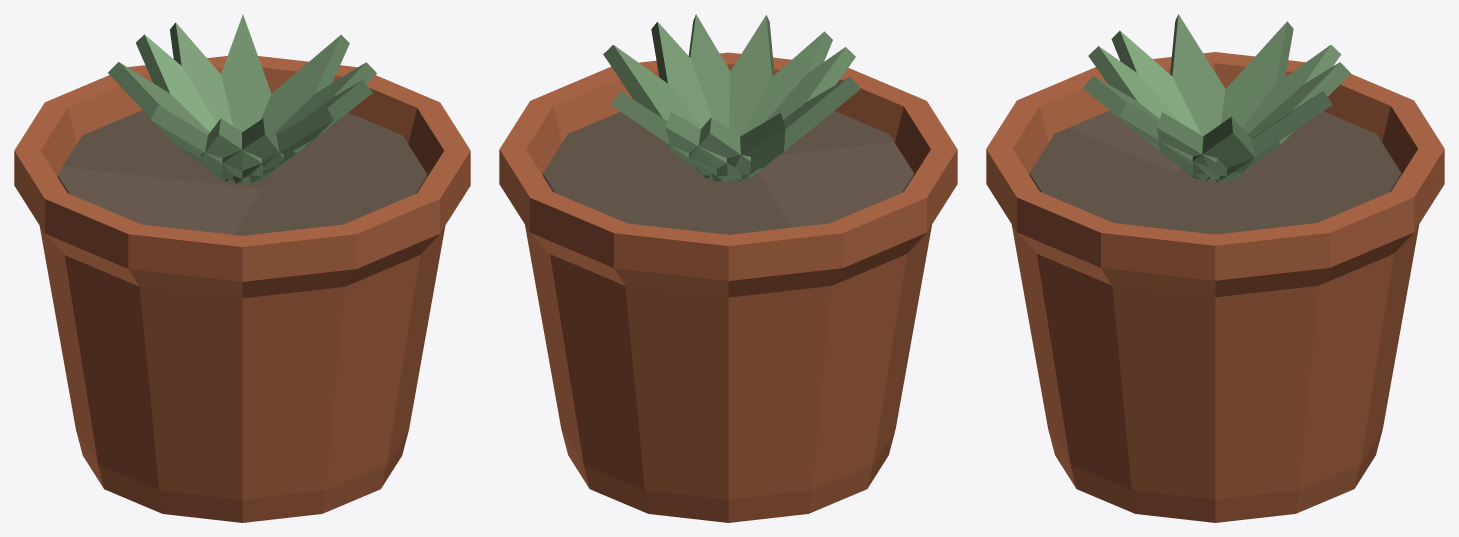
File: new-limifolia.glb
3 views of the same model, side by side, from view 1: azimuth 30°, elevation 25°; view 2: azimuth 150°, elevation 25°; view 3: azimuth 270°, elevation 25° (orthographic).
Parts seen in each view (by area): view 1: new-limifolia/review-terra-vessel, new-limifolia/review-rooted-soil, new-limifolia/leaf-007, new-limifolia/leaf-004, new-limifolia/leaf-010, new-limifolia/leaf-002, new-limifolia/leaf-005, new-limifolia/leaf-011, new-limifolia/leaf-008, new-limifolia/leaf-003, new-limifolia/leaf-006, new-limifolia/leaf-009 (+1 smaller); view 2: new-limifolia/review-terra-vessel, new-limifolia/review-rooted-soil, new-limifolia/leaf-006, new-limifolia/leaf-004, new-limifolia/leaf-009, new-limifolia/leaf-001, new-limifolia/leaf-011, new-limifolia/leaf-008, new-limifolia/leaf-003, new-limifolia/leaf-005, new-limifolia/leaf-010, new-limifolia/leaf-002 (+1 smaller); view 3: new-limifolia/review-terra-vessel, new-limifolia/review-rooted-soil, new-limifolia/leaf-008, new-limifolia/leaf-005, new-limifolia/leaf-003, new-limifolia/leaf-004, new-limifolia/leaf-011, new-limifolia/leaf-010, new-limifolia/leaf-002, new-limifolia/leaf-007, new-limifolia/leaf-009, new-limifolia/leaf-006 (+1 smaller).
Boxes of the visible parts, x1,y1,x2,y2 form: new-limifolia/review-terra-vessel: [14, 56, 470, 522]; new-limifolia/review-rooted-soil: [57, 110, 427, 235]; new-limifolia/leaf-007: [221, 14, 271, 132]; new-limifolia/leaf-004: [261, 35, 349, 174]; new-limifolia/leaf-010: [136, 34, 216, 131]; new-limifolia/leaf-002: [170, 22, 233, 125]; new-limifolia/leaf-005: [108, 62, 227, 181]; new-limifolia/leaf-011: [221, 118, 283, 180]; new-limifolia/leaf-008: [151, 105, 250, 183]; new-limifolia/leaf-003: [200, 118, 263, 180]; new-limifolia/leaf-006: [232, 105, 333, 183]; new-limifolia/leaf-009: [256, 62, 376, 181]; new-limifolia/review-terra-vessel: [499, 52, 957, 522]; new-limifolia/review-rooted-soil: [543, 111, 913, 234]; new-limifolia/leaf-006: [729, 15, 774, 136]; new-limifolia/leaf-004: [603, 45, 709, 177]; new-limifolia/leaf-009: [651, 22, 711, 127]; new-limifolia/leaf-001: [688, 14, 730, 128]; new-limifolia/leaf-011: [743, 31, 832, 134]; new-limifolia/leaf-008: [736, 77, 860, 181]; new-limifolia/leaf-003: [750, 47, 855, 177]; new-limifolia/leaf-005: [711, 113, 785, 181]; new-limifolia/leaf-010: [688, 117, 751, 179]; new-limifolia/leaf-002: [666, 112, 742, 181]; new-limifolia/review-terra-vessel: [986, 52, 1444, 522]; new-limifolia/review-rooted-soil: [1029, 110, 1401, 234]; new-limifolia/leaf-008: [1170, 14, 1225, 136]; new-limifolia/leaf-005: [1221, 21, 1293, 127]; new-limifolia/leaf-003: [1111, 31, 1201, 134]; new-limifolia/leaf-004: [1192, 117, 1254, 179]; new-limifolia/leaf-011: [1088, 46, 1193, 177]; new-limifolia/leaf-010: [1237, 45, 1341, 177]; new-limifolia/leaf-002: [1230, 62, 1350, 180]; new-limifolia/leaf-007: [1215, 91, 1332, 182]; new-limifolia/leaf-009: [1157, 112, 1231, 180]; new-limifolia/leaf-006: [1083, 75, 1209, 181].
Size of the model in its own units: 0.19 by 0.1786 by 0.19.
Materials: 3 (3 with a texture image).
